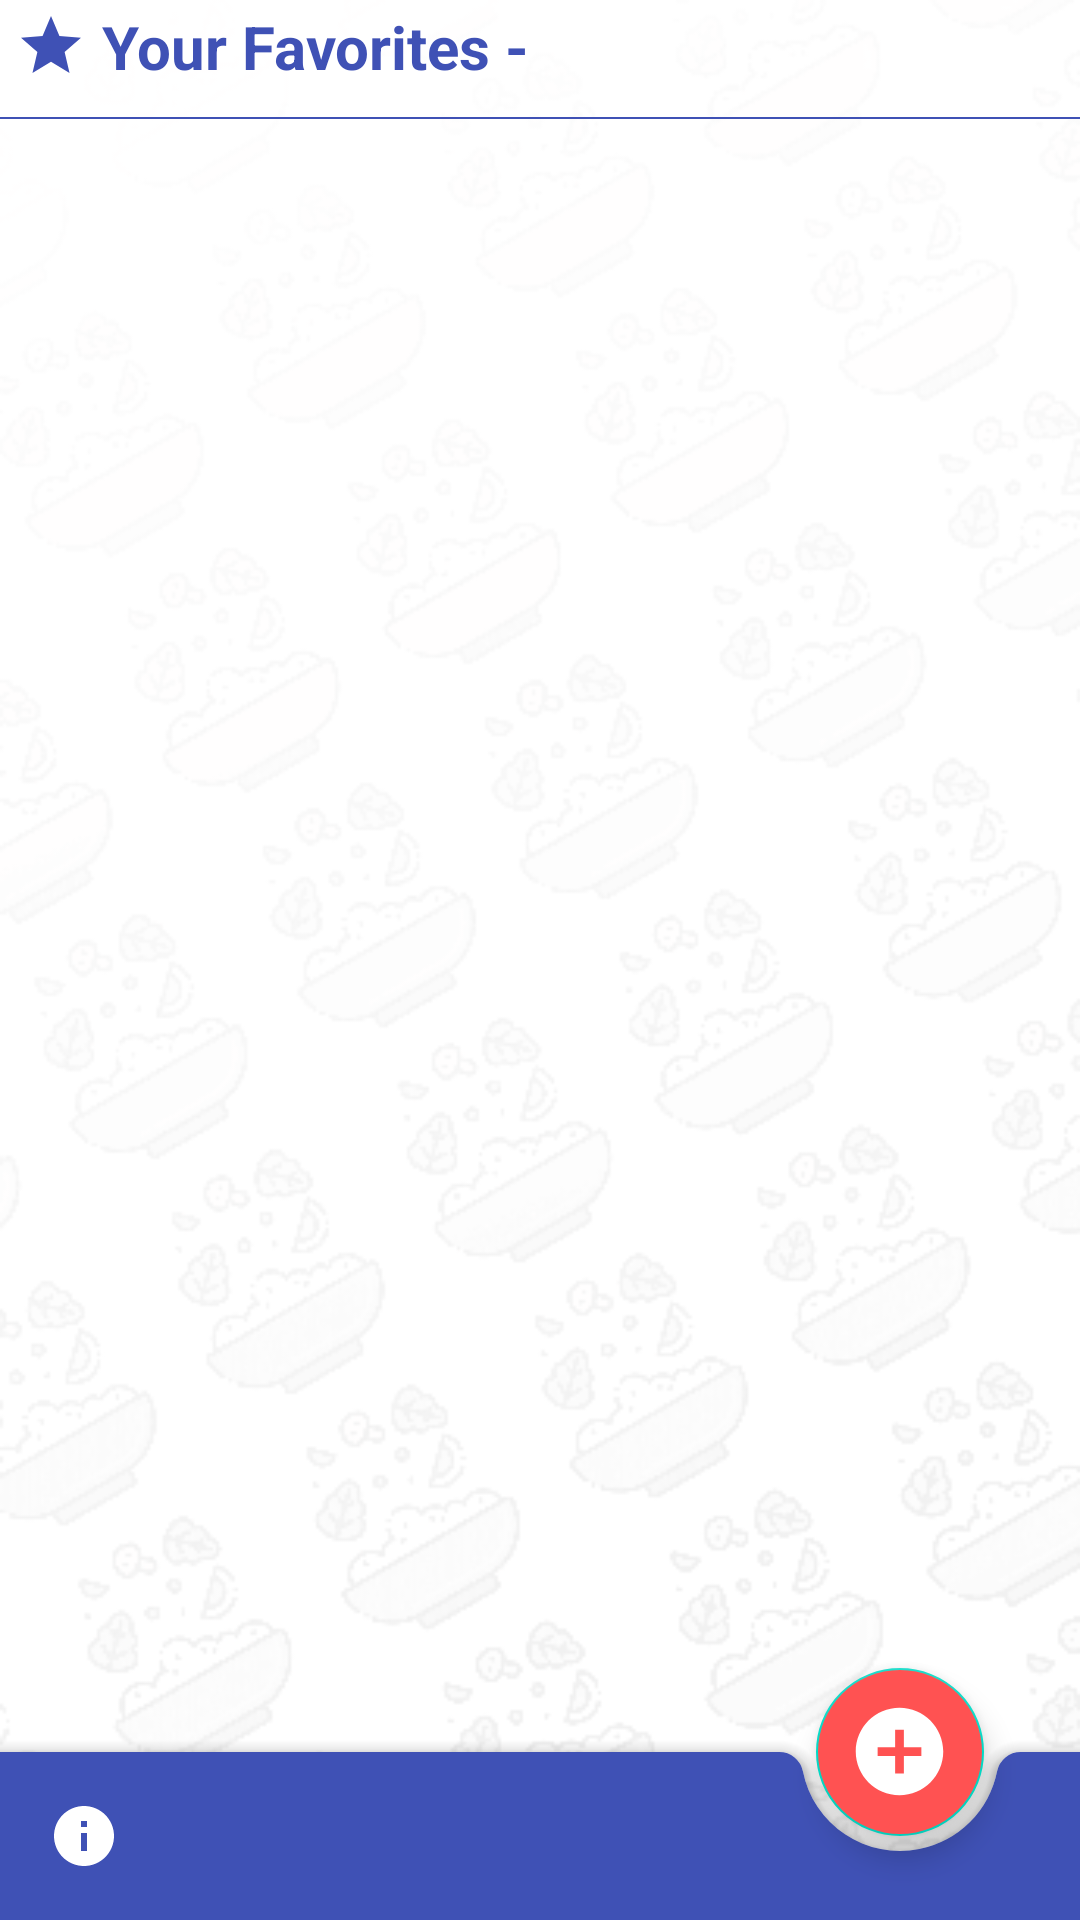

Where icons sit on this 1080px×1920px app screen, as (x1,y1,x2,y2):
star: (21,16,81,73)
